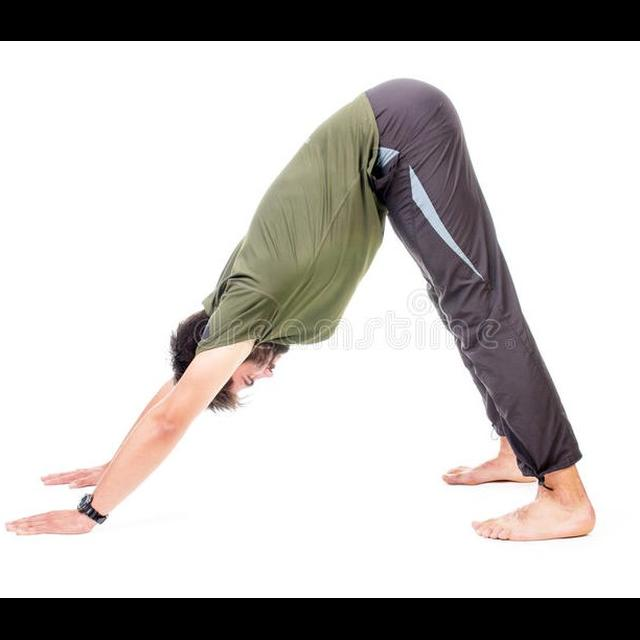Downward-Facing_Dog: (2, 68, 603, 548)
